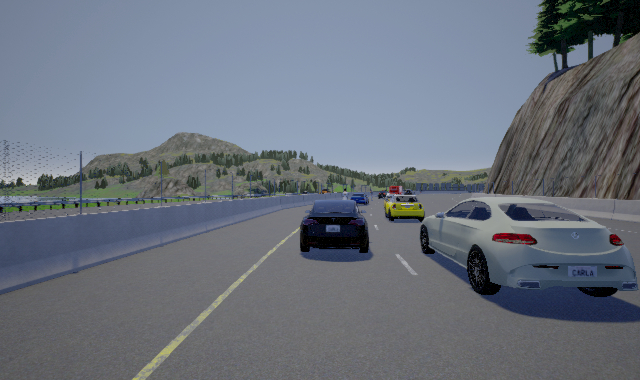bike: (341, 187, 349, 202)
vehicle: (420, 186, 639, 297), (300, 199, 369, 253), (384, 193, 426, 223), (349, 194, 367, 205)
